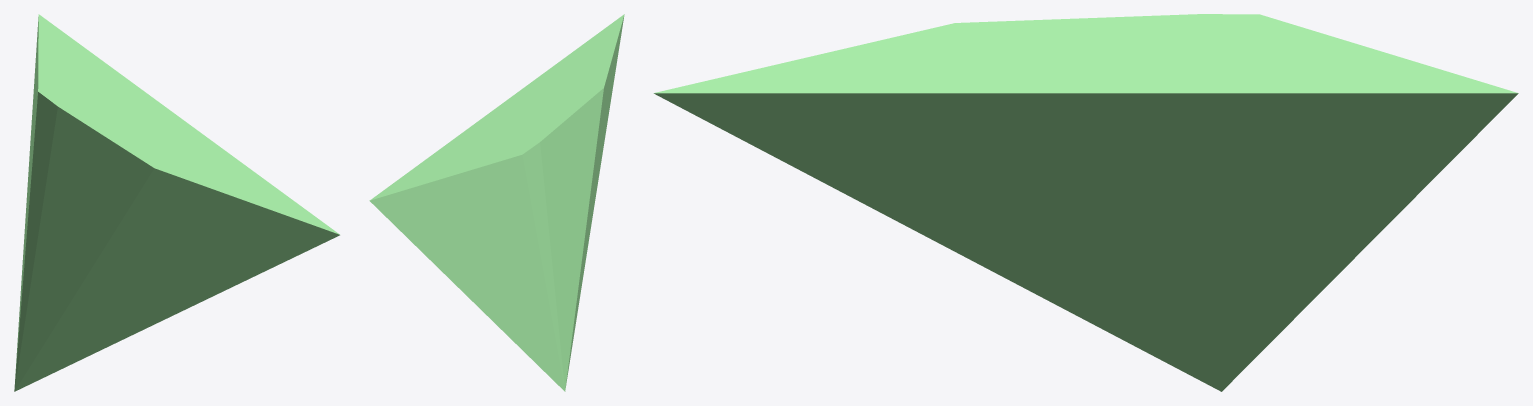
File: UMIRobot_UMIRobot_link_2_convex_coll_32.dae
3 renders of one model, left to right at view 1: azimuth 30°, elevation 25°; view 2: azimuth 150°, elevation 25°; view 3: azimuth 270°, elevation 25°, orthographic. The views are drawn at different scales.
Parts seen in each view (by area): view 1: node; view 2: node; view 3: node.
Boxes of the visible parts, x1=… form: node: x1=14, y1=14, x2=339, y2=391; node: x1=369, y1=14, x2=624, y2=391; node: x1=653, y1=14, x2=1518, y2=391.
Size of the model in its own units: 0.00734 by 0.0154 by 0.03.
